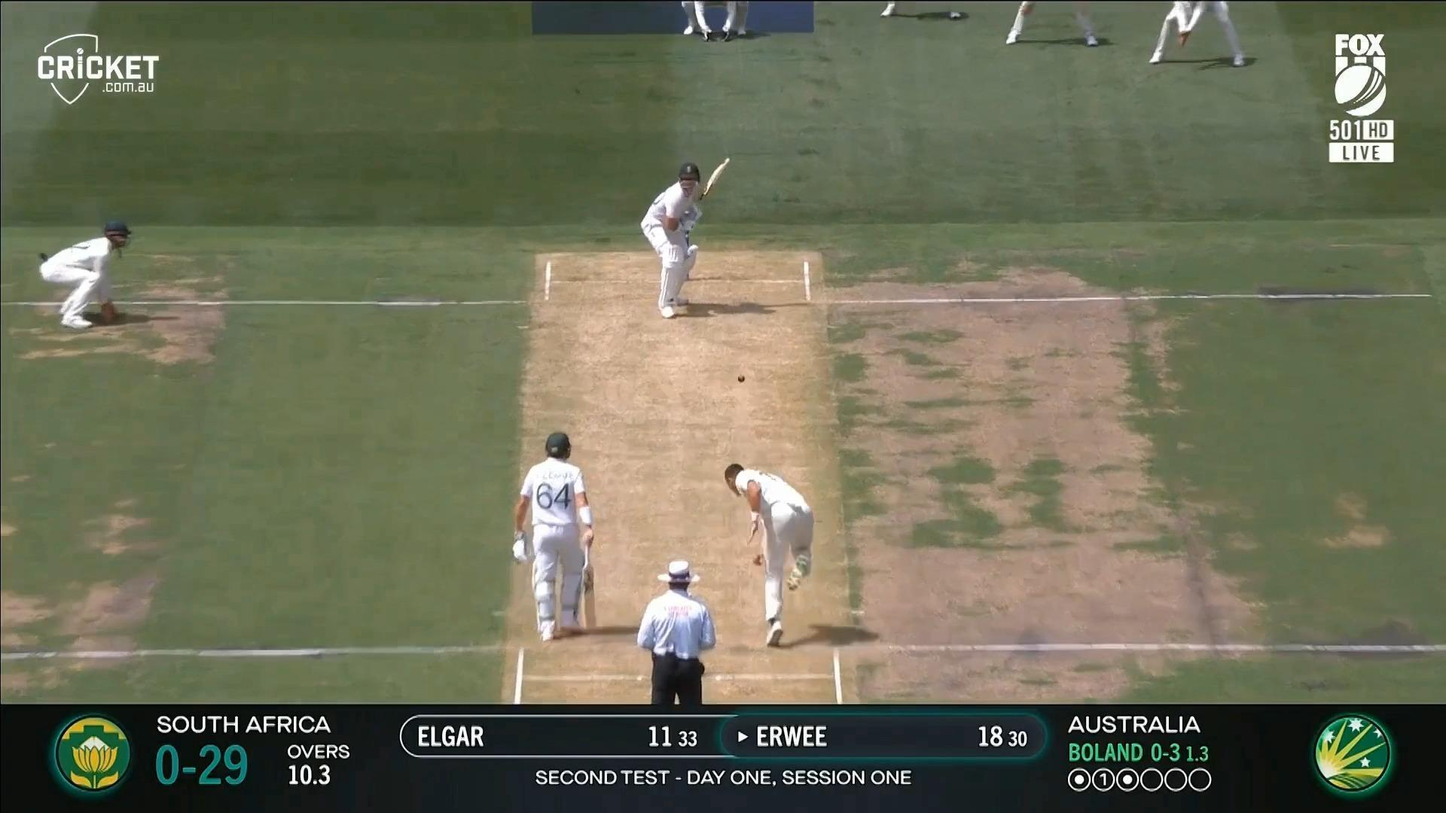BM 1: (640, 157, 731, 318)
BO: (724, 462, 815, 649)
